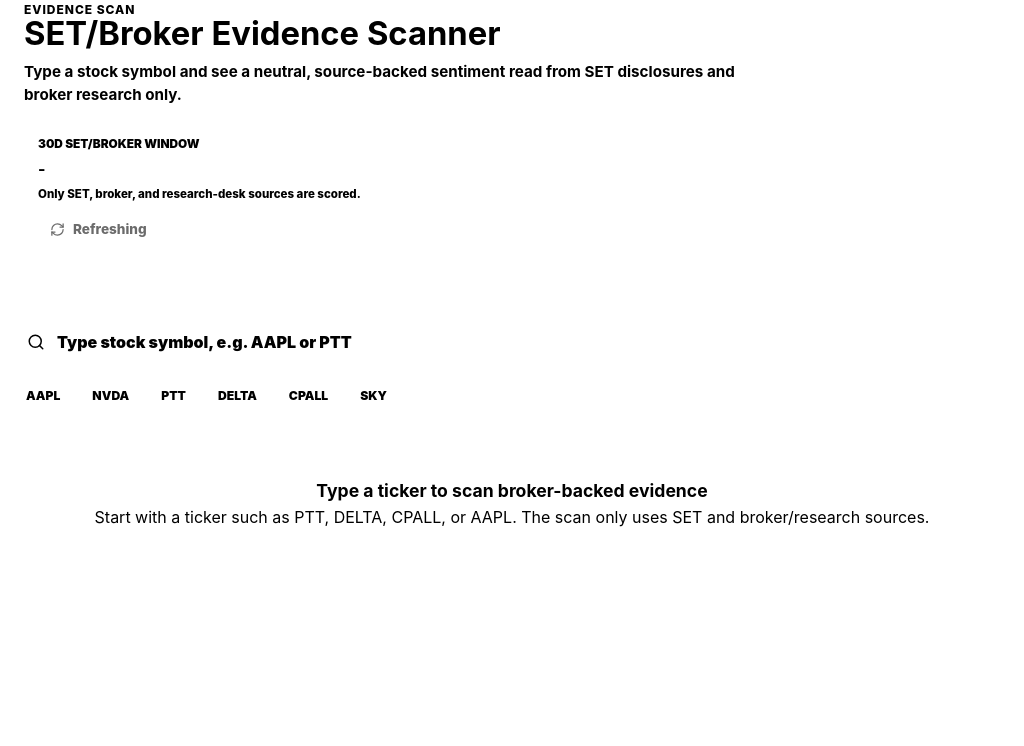
StockScanPage › shows an unknown state when no symbol evidence exists
This screenshot has width=1024, height=746.
In the field with placeholder "Type stock symbol, e.g. AAPL or PTT": [526, 342] box [55,318,997,366], type "NOPE"
(page scrolled)
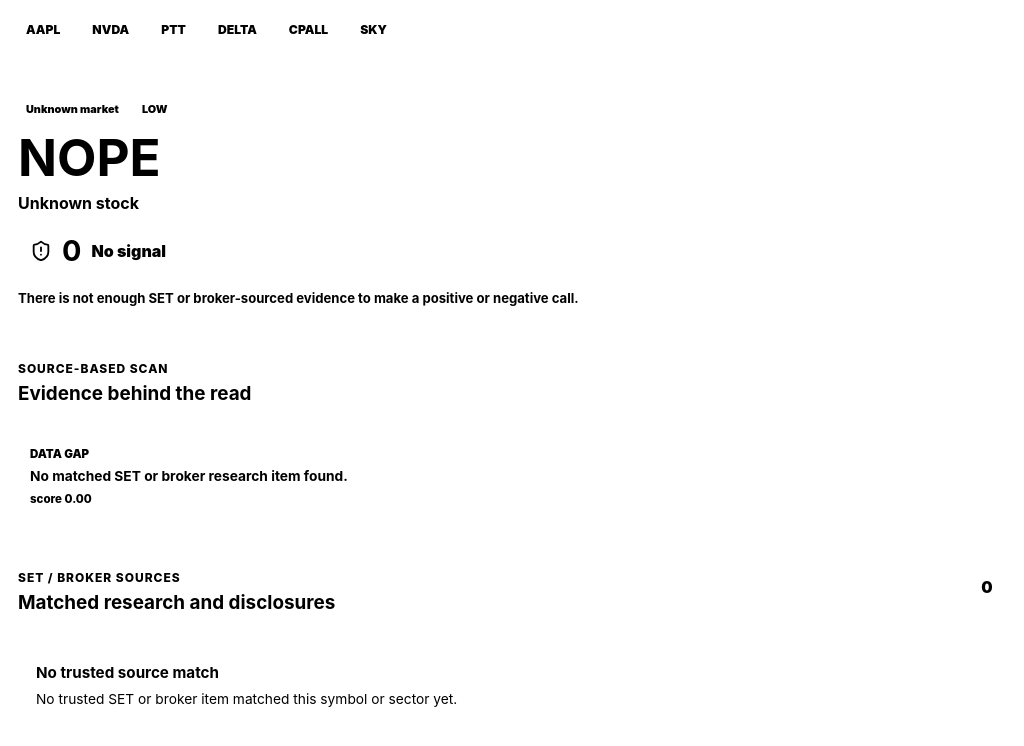
Expected: the text "No signal" is shown, [91,241,166,261]
Expected: the text "Data gap" is shown, [30,447,89,461]
